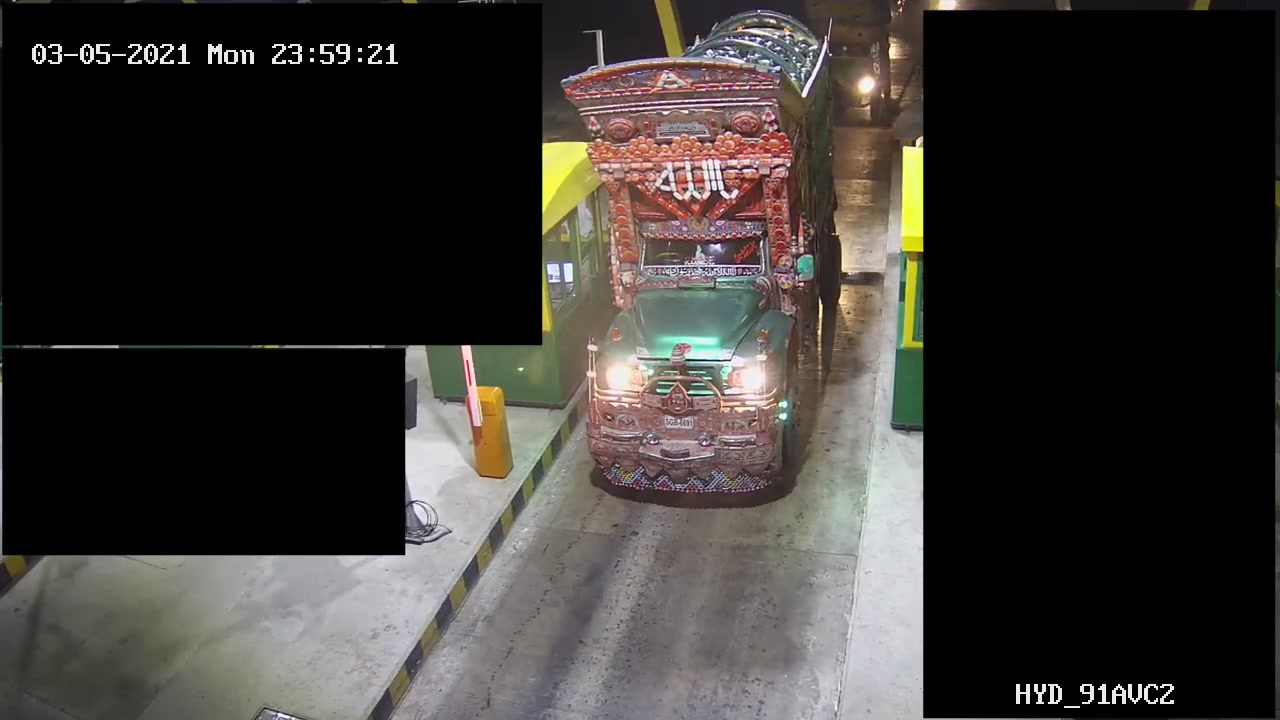F5: (549, 2, 843, 511)
